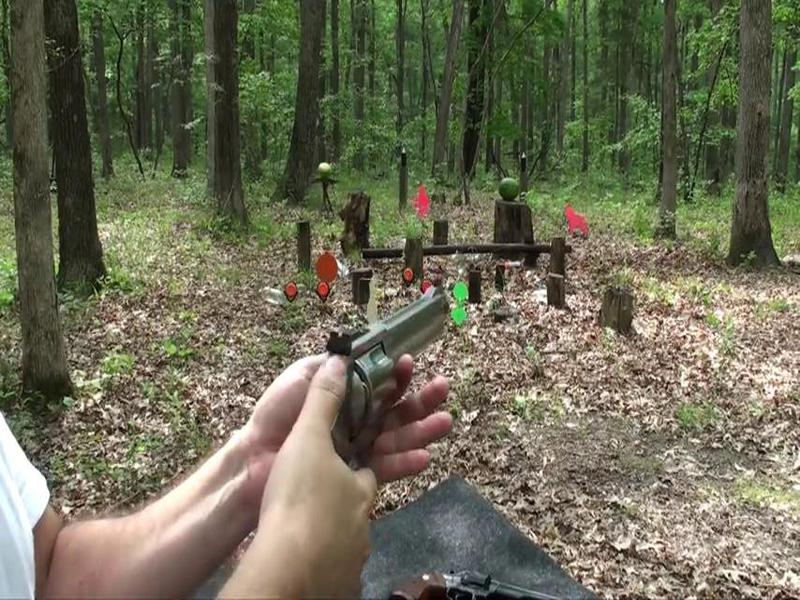Revolver: (259, 264, 457, 479)
